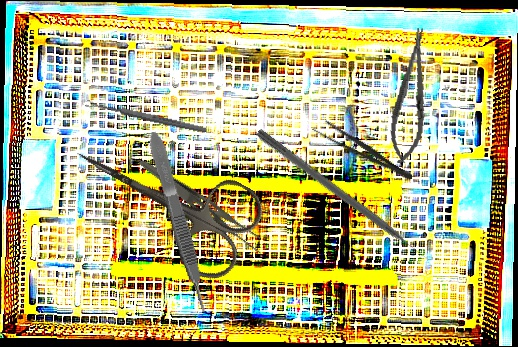Dressing Forceps: (129, 157, 272, 257), (310, 116, 417, 186)
Iris Scissors: (54, 107, 271, 289)
Needle Holder: (385, 25, 438, 167)
Pusher: (253, 127, 433, 267)
Surgical Spoon: (85, 98, 207, 135)
Tissue Forceps: (145, 129, 212, 317)
